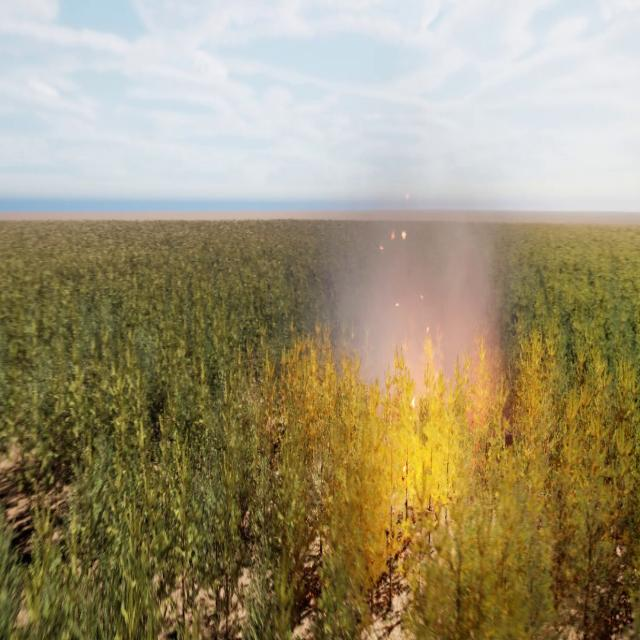fire: (367, 347, 500, 490)
smoke: (331, 143, 505, 416)
